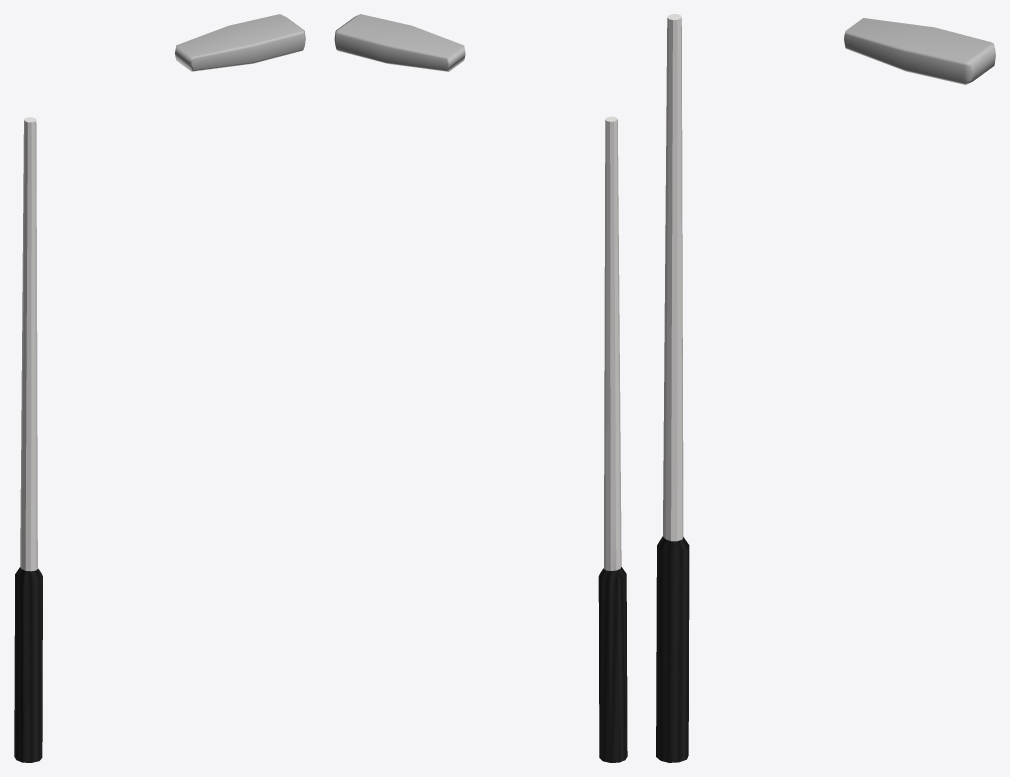
Rendered from StreetLight_02.fbx.
The picture shows the model from 3 angles, left to right: view 1: azimuth 30°, elevation 25°; view 2: azimuth 150°, elevation 25°; view 3: azimuth 330°, elevation 25°; orthographic projection. The views are drawn at different scales.
Parts seen in each view (by area): view 1: StreetLight_02; view 2: StreetLight_02; view 3: StreetLight_02.
Part boxes in pixels (x1,y1,x2,y2): StreetLight_02: (14, 14, 305, 762); StreetLight_02: (334, 14, 627, 762); StreetLight_02: (656, 14, 995, 762).
Bounding box in the file's own units: 7.96 × 18.15 × 1.38.
